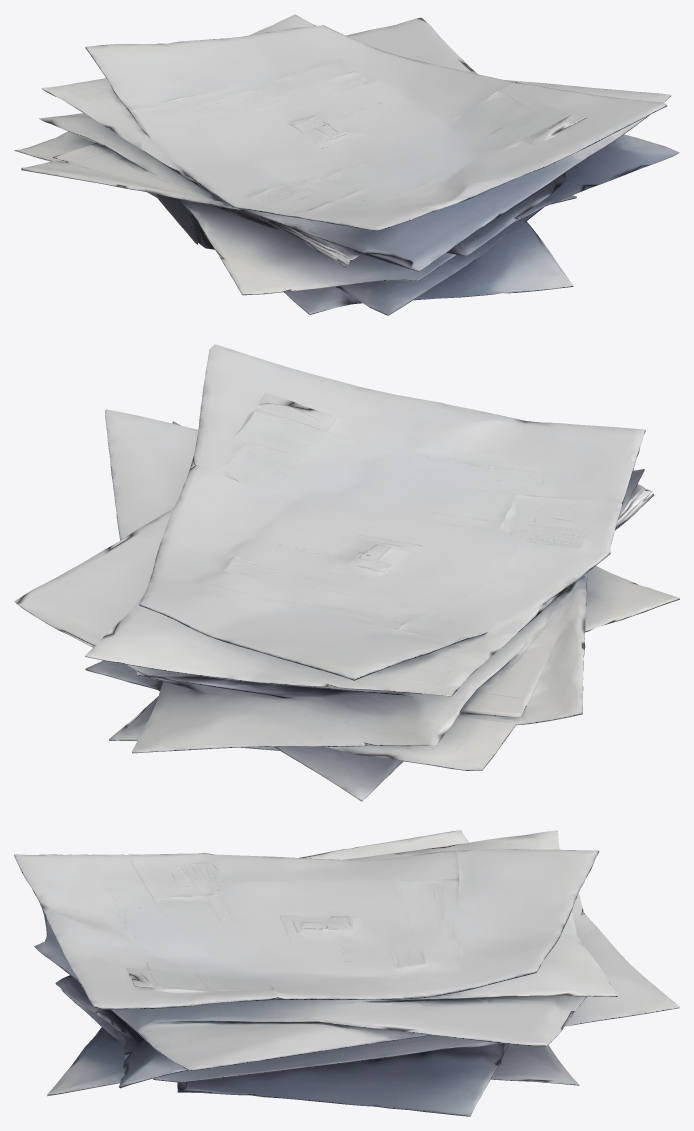
The model's file is paper_stack.glb.
3 renders of one model, top to bottom at view 1: azimuth 30°, elevation 25°; view 2: azimuth 150°, elevation 25°; view 3: azimuth 270°, elevation 25°, orthographic. The views are drawn at different scales.
Visible parts, largest first — view 1: paper_stack / mesh; view 2: paper_stack / mesh; view 3: paper_stack / mesh.
Part boxes in pixels (<box>): paper_stack / mesh: <box>14,14,679,315</box>; paper_stack / mesh: <box>14,344,679,801</box>; paper_stack / mesh: <box>14,830,679,1116</box>.
Size of the model in its own units: 0.3174 by 0.0807 by 0.32.
Materials: 1 (1 with a texture image).
